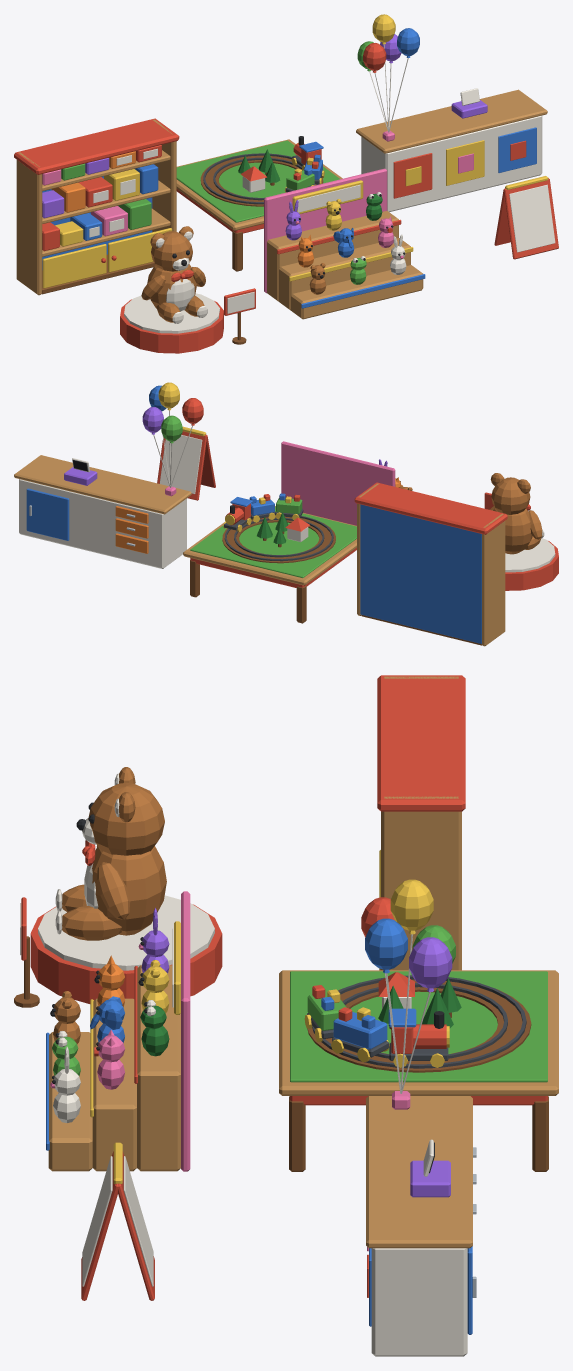
The model's file is low-poly-toy-store.glb.
3 views of the same model, one above another, from view 1: azimuth 30°, elevation 25°; view 2: azimuth 150°, elevation 25°; view 3: azimuth 270°, elevation 25° (orthographic). The views are drawn at different scales.
Parts seen in each view (by area): view 1: Shelf_Toys, Counter_Checkout, PlushRack, TeddyBear_Display, ToyTrain_Table, Sign_Board, Shelf_Door_L, Train, Shelf_Door_R; view 2: Shelf_Toys, Counter_Checkout, ToyTrain_Table, PlushRack, TeddyBear_Display, Sign_Board, Counter_Door, Train, Drawer_1, Drawer_2, Drawer_Cash; view 3: Counter_Checkout, ToyTrain_Table, PlushRack, TeddyBear_Display, Shelf_Toys, Train, Sign_Board.
Boxes of the visible parts, bbox=[...] form: Shelf_Toys: bbox=[14, 118, 179, 295]; Counter_Checkout: bbox=[356, 14, 547, 212]; PlushRack: bbox=[264, 168, 425, 319]; TeddyBear_Display: bbox=[120, 226, 255, 353]; ToyTrain_Table: bbox=[176, 139, 342, 271]; Sign_Board: bbox=[494, 176, 558, 259]; Shelf_Door_L: bbox=[42, 244, 106, 288]; Train: bbox=[284, 136, 324, 192]; Shelf_Door_R: bbox=[108, 228, 172, 272]; Shelf_Toys: bbox=[354, 482, 507, 646]; Counter_Checkout: bbox=[14, 382, 203, 568]; ToyTrain_Table: bbox=[183, 506, 356, 623]; PlushRack: bbox=[281, 441, 412, 525]; TeddyBear_Display: bbox=[484, 473, 558, 590]; Sign_Board: bbox=[157, 426, 215, 500]; Counter_Door: bbox=[26, 488, 69, 540]; Train: bbox=[223, 493, 303, 531]; Drawer_1: bbox=[115, 518, 148, 538]; Drawer_2: bbox=[115, 533, 148, 553]; Drawer_Cash: bbox=[115, 506, 148, 523]; Counter_Checkout: bbox=[361, 879, 472, 1356]; ToyTrain_Table: bbox=[279, 970, 558, 1171]; PlushRack: bbox=[46, 891, 190, 1171]; TeddyBear_Display: bbox=[14, 767, 222, 1007]; Shelf_Toys: bbox=[377, 675, 465, 970]; Train: bbox=[304, 985, 449, 1067]; Sign_Board: bbox=[81, 1142, 154, 1300].
Bounding box in the file's own units: 29.13 × 10.32 × 14.79.
